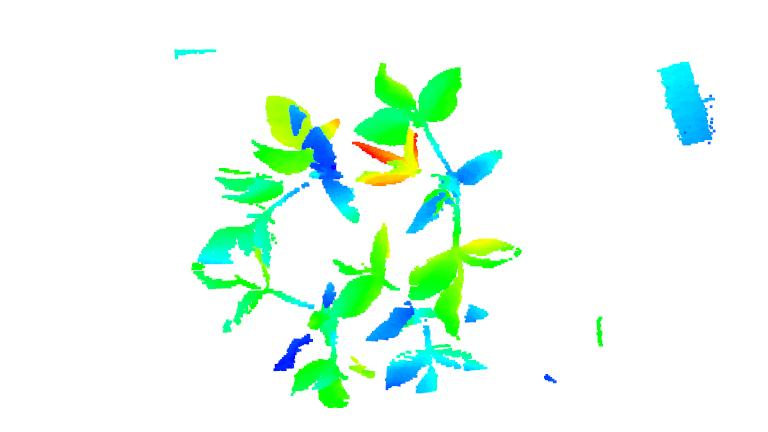mungbean: (349, 59, 526, 341), (193, 91, 360, 267), (190, 255, 375, 410), (329, 227, 489, 394)
